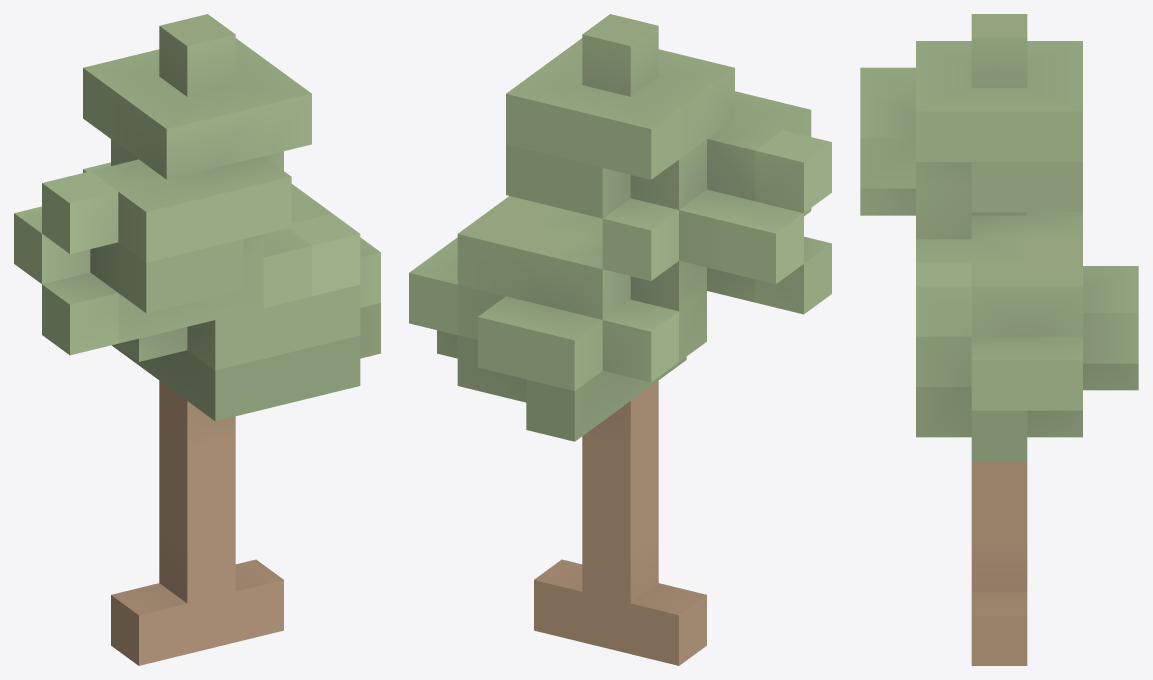
Rendered from decor_tree_b.glb.
The picture shows the model from 3 angles, left to right: view 1: azimuth 30°, elevation 25°; view 2: azimuth 150°, elevation 25°; view 3: azimuth 270°, elevation 25°; orthographic projection.
Parts seen in each view (by area): view 1: decor_tree_b; view 2: decor_tree_b; view 3: decor_tree_b.
Boxes of the visible parts, x1,y1,x2,y2 form: decor_tree_b: [14, 14, 380, 665]; decor_tree_b: [409, 14, 831, 665]; decor_tree_b: [860, 14, 1138, 665].
Size of the model in its own units: 0.875 by 1.5 by 0.625.
